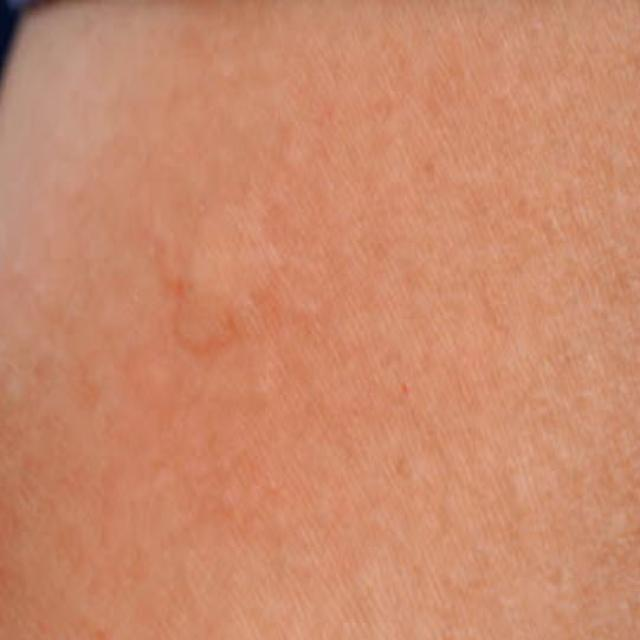sinek: (162, 201, 288, 353)
